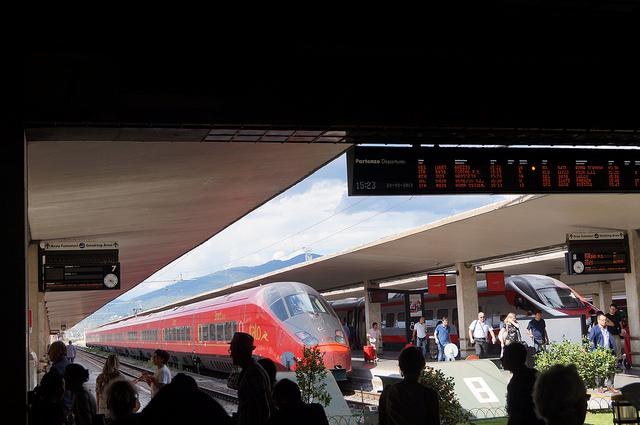Train: (83, 285, 359, 374), (328, 271, 599, 354)
